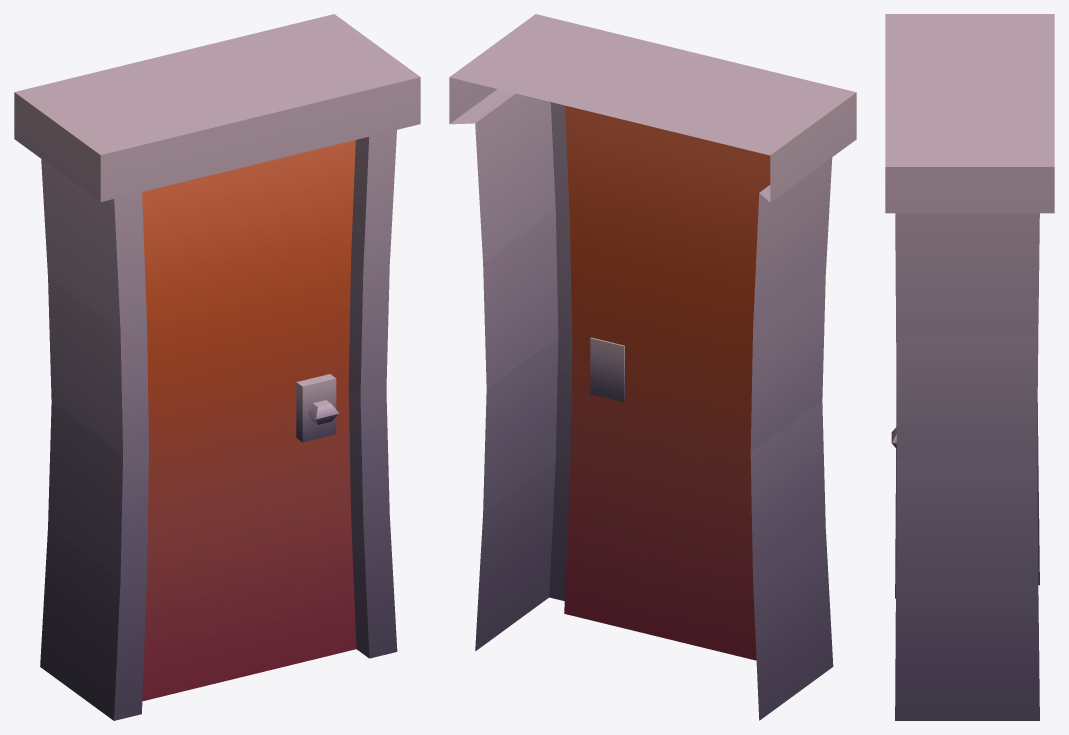
Rendered from Door 1.fbx.
The picture shows the model from 3 angles, left to right: view 1: azimuth 30°, elevation 25°; view 2: azimuth 150°, elevation 25°; view 3: azimuth 270°, elevation 25°; orthographic projection. The views are drawn at different scales.
Parts seen in each view (by area): view 1: Door 1; view 2: Door 1; view 3: Door 1.
Part boxes in pixels (bbox=[...]): Door 1: bbox=[14, 14, 420, 720]; Door 1: bbox=[449, 14, 856, 720]; Door 1: bbox=[885, 14, 1054, 720].
Size of the model in its own units: 114 by 196 by 53.25.
